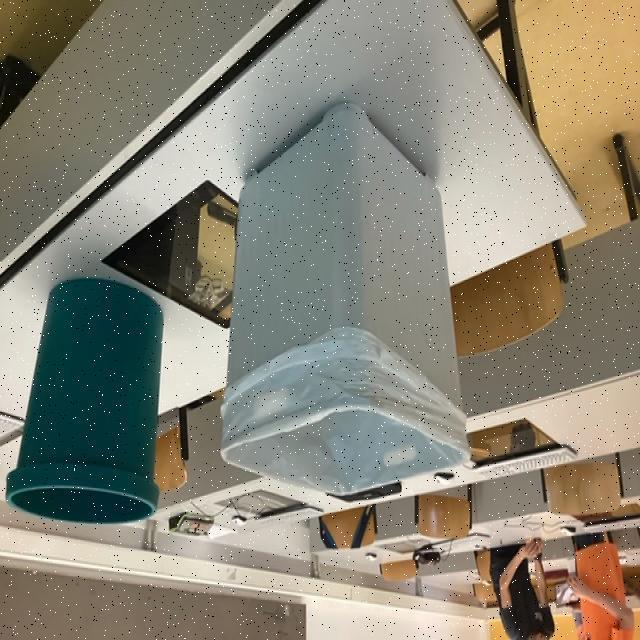garbage container: (210, 90, 482, 514), (1, 266, 189, 554)
